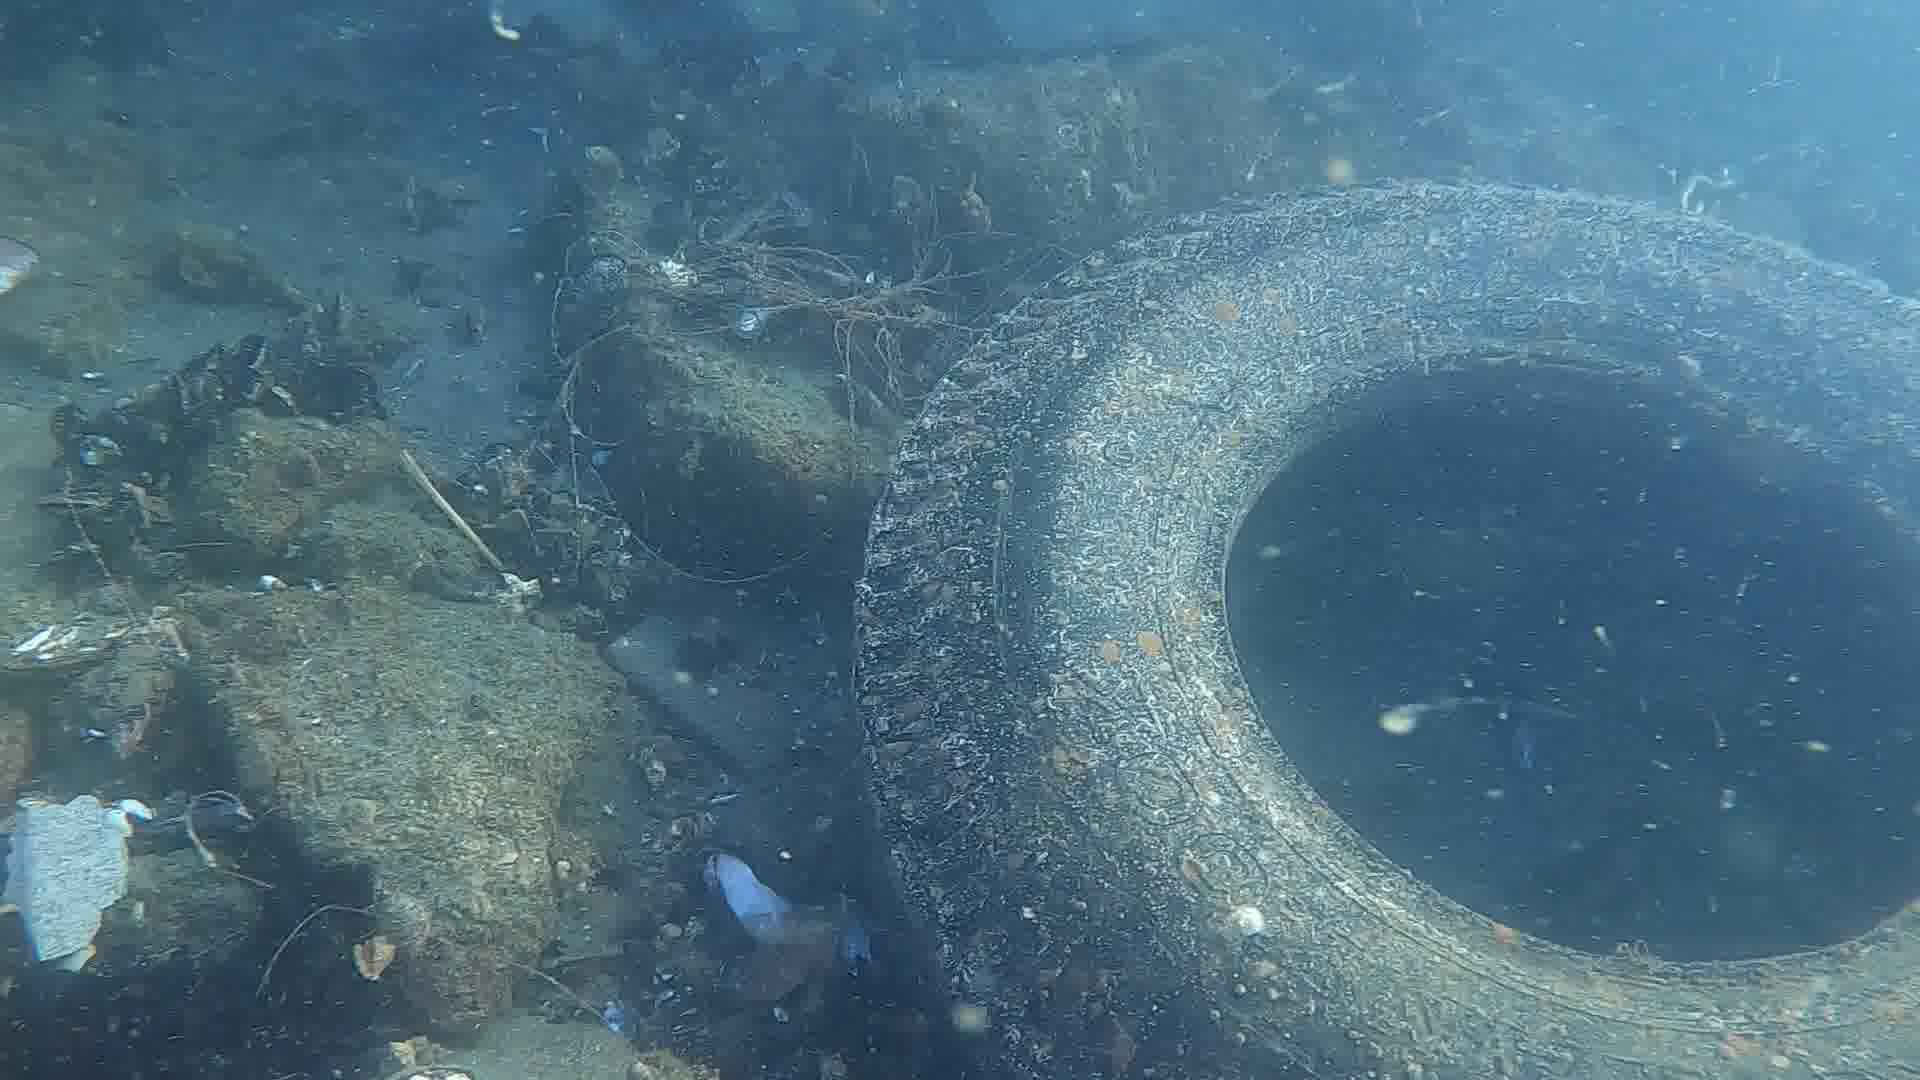tire: (851, 179, 1920, 1077)
